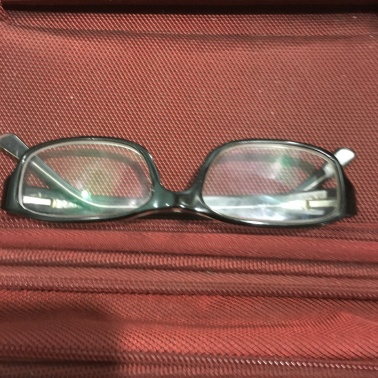glasses: (6, 123, 361, 237)
